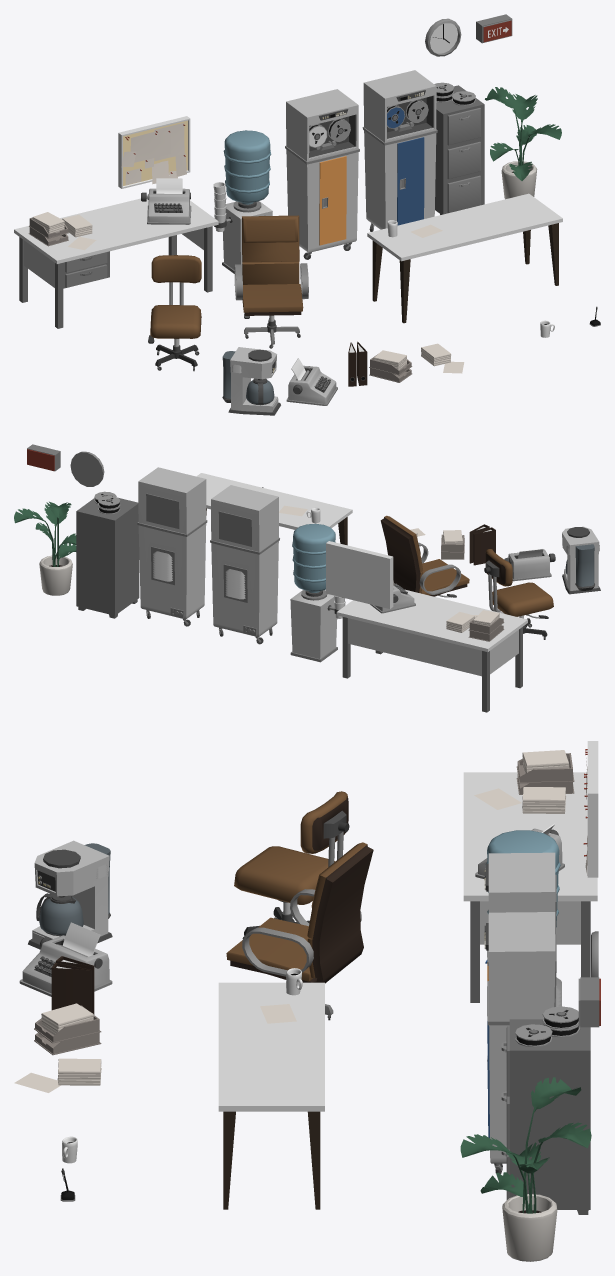
The model's file is 60's office stuff exporter.fbx.
The picture shows the model from 3 angles, top to bottom: view 1: azimuth 30°, elevation 25°; view 2: azimuth 150°, elevation 25°; view 3: azimuth 270°, elevation 25°; orthographic projection. The views are drawn at different scales.
Parts seen in each view (by area): view 1: Cube.022, Cube.000, Cube.016, Cube.020, Cube.021, Cube.003, Cube.023, Cube.11647, Cube.004, Cube.015, Cylinder.003, Cube.007 (+3 smaller); view 2: Cube.016, Cube.000, Cube.022, Cube.003, Cube.023, Cube.11647, Cube.021, Cube.004, Cube.020, Cylinder.003, Cube.015, Cube (+5 smaller); view 3: Cube.020, Cube.003, Cube.016, Cube.021, Cube.000, Cylinder.003, Cube.015, Cube.004, Cube.022, Cube, Cube.11647, Cube.001 (+11 smaller).
Part boxes in pixels (x1=…): Cube.022: x1=285, y1=89, x2=359, y2=259; Cube.000: x1=362, y1=70, x2=437, y2=231; Cube.016: x1=14, y1=198, x2=218, y2=328; Cube.020: x1=367, y1=193, x2=562, y2=323; Cube.021: x1=234, y1=215, x2=308, y2=348; Cube.003: x1=435, y1=85, x2=484, y2=214; Cube.023: x1=213, y1=130, x2=272, y2=273; Cube.11647: x1=118, y1=116, x2=190, y2=188; Cube.004: x1=148, y1=255, x2=201, y2=371; Cube.015: x1=222, y1=347, x2=280, y2=415; Cylinder.003: x1=485, y1=87, x2=561, y2=199; Cube.007: x1=141, y1=178, x2=191, y2=224; Cube.016: x1=336, y1=589, x2=527, y2=712; Cube.000: x1=137, y1=467, x2=207, y2=626; Cube.022: x1=210, y1=485, x2=279, y2=644; Cube.003: x1=76, y1=497, x2=139, y2=618; Cube.023: x1=290, y1=523, x2=345, y2=662; Cube.11647: x1=326, y1=541, x2=394, y2=608; Cube.021: x1=380, y1=515, x2=469, y2=597; Cube.004: x1=484, y1=549, x2=553, y2=639; Cube.020: x1=196, y1=473, x2=352, y2=545; Cylinder.003: x1=14, y1=501, x2=76, y2=595; Cube.015: x1=562, y1=526, x2=600, y2=594; Cube: x1=504, y1=548, x2=555, y2=581; Cube.020: x1=218, y1=982, x2=324, y2=1209; Cube.003: x1=501, y1=1019, x2=590, y2=1214; Cube.016: x1=463, y1=772, x2=597, y2=1002; Cube.021: x1=226, y1=842, x2=373, y2=1020; Cube.000: x1=484, y1=912, x2=556, y2=1173; Cylinder.003: x1=460, y1=1077, x2=591, y2=1261; Cube.015: x1=28, y1=840, x2=112, y2=949; Cube.004: x1=234, y1=791, x2=349, y2=938; Cube.022: x1=484, y1=852, x2=561, y2=1006; Cube: x1=19, y1=922, x2=112, y2=996; Cube.11647: x1=583, y1=741, x2=598, y2=877; Cube.001: x1=51, y1=962, x2=91, y2=1012.
Bounding box in the file's own units: 806 × 272 × 510.
